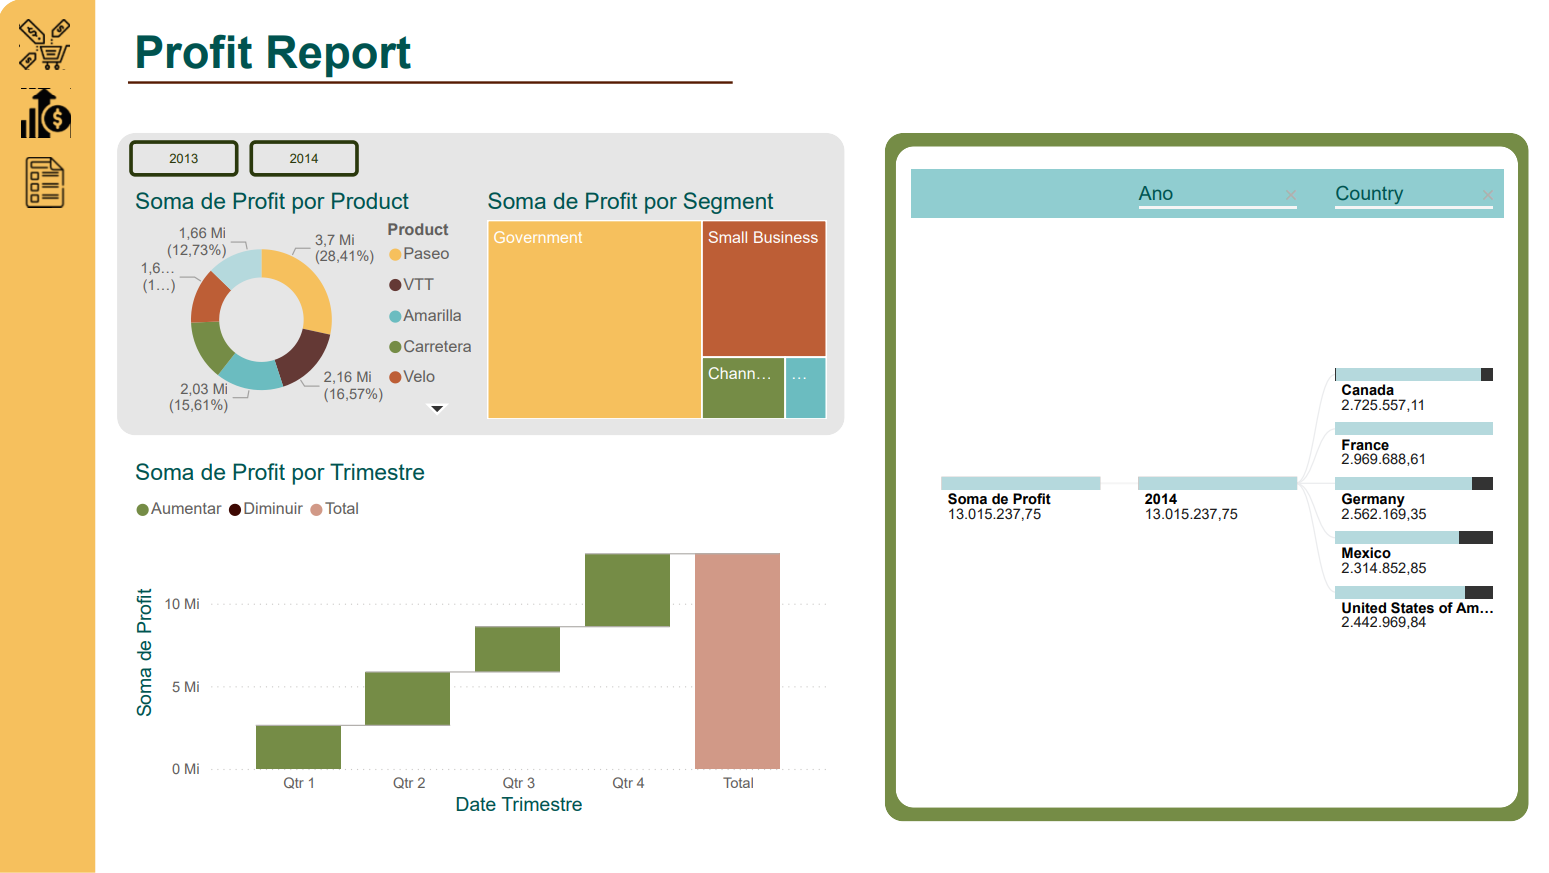

This screenshot's page, from the dashboard's own definition file:
{"tool":"powerbi","page":{"name":"Profit","canvas":[1280,720],"ordinal":1},"visuals":[{"type":"group","id":"g1","title":"Fundo","box":[0,0,80.3,720],"z":0},{"type":"shape","box":[97.8,111.1,598.9,248.9],"z":500,"group":"g2"},{"type":"shape","box":[0,0,80.3,720],"z":1000,"group":"g1"},{"type":"shape","box":[730,111.1,530,566.7],"z":1000,"group":"g2"},{"type":"actionButton","box":[13.3,68.9,53.3,51.1],"z":1125,"group":"g1"},{"type":"actionButton","box":[13.3,125.6,53.3,51.1],"z":1250,"group":"g1"},{"type":"actionButton","box":[13.3,12.2,53.3,51.1],"z":1500,"group":"g1"},{"type":"shape","title":"Linha","box":[107,61,497.8,15.6],"z":1500,"group":"g4"},{"type":"actionButton","title":"B_2014","box":[206.7,116.7,90,30],"z":1500,"group":"g3"},{"type":"shape","box":[738.9,122.2,512.2,544.4],"z":1500,"group":"g2"},{"type":"actionButton","title":"B_2013","box":[107.8,116.7,90,30],"z":1750,"group":"g3"},{"type":"textbox","title":"Titulo","box":[107,17.7,273.8,59.6],"z":2000,"group":"g4"},{"type":"group","id":"g2","title":"Fundo dos dados","box":[97.8,111.1,1162.2,566.7],"z":2000},{"type":"group","id":"g3","title":"B_Anos","box":[107.8,1.1,1100,145.6],"z":3000},{"type":"decompositionTreeVisual","fields":{"Analyze":["Sum(financials.Profit)"],"ExplainBy":["financials.Date.Variation.Hierarquia de datas.Ano","financials.Country"]},"box":[746.7,135.6,497.8,517.8],"z":5000},{"type":"donutChart","fields":{"Category":["financials.Product"],"Y":["Sum(financials.Profit)"]},"box":[107.8,156.7,296.7,194.4],"z":6000},{"type":"treemap","fields":{"Values":["Sum(financials.Profit)"],"Group":["financials.Segment"]},"box":[397.8,156.7,288.9,194.4],"z":7000},{"type":"waterfallChart","fields":{"Y":["Sum(financials.Profit)"],"Category":["financials.Date.Variation.Hierarquia de datas.Trimestre"]},"box":[107.8,380,578.9,297.8],"z":8000},{"type":"group","id":"g4","title":"Titulo","box":[107,17.7,497.8,59.6],"z":9000}]}

Visuals, with their boxes in screenshot pixels (x1, y1, x2, y2), scaled from the page's 1280x720 canvas onto the 1549x873 screenshot:
"Fundo" group: 0, 0, 97, 872
shape: 118, 135, 843, 436
shape: 0, 0, 97, 872
shape: 883, 135, 1525, 822
actionButton: 16, 84, 81, 146
actionButton: 16, 152, 81, 214
actionButton: 16, 15, 81, 77
"Linha" shape: 129, 74, 732, 93
"B_2014" actionButton: 250, 141, 359, 178
shape: 894, 148, 1514, 808
"B_2013" actionButton: 130, 141, 239, 178
"Titulo" textbox: 129, 21, 461, 94
"Fundo dos dados" group: 118, 135, 1525, 822
"B_Anos" group: 130, 1, 1462, 178
decompositionTreeVisual - Sum(financials.Profit) x financials.Date.Variation.Hierarquia de datas.Ano: 904, 164, 1506, 792
donutChart - financials.Product x Sum(financials.Profit): 130, 190, 490, 426
treemap - Sum(financials.Profit) x financials.Segment: 481, 190, 831, 426
waterfallChart - Sum(financials.Profit) x financials.Date.Variation.Hierarquia de datas.Trimestre: 130, 461, 831, 822
"Titulo" group: 129, 21, 732, 94
